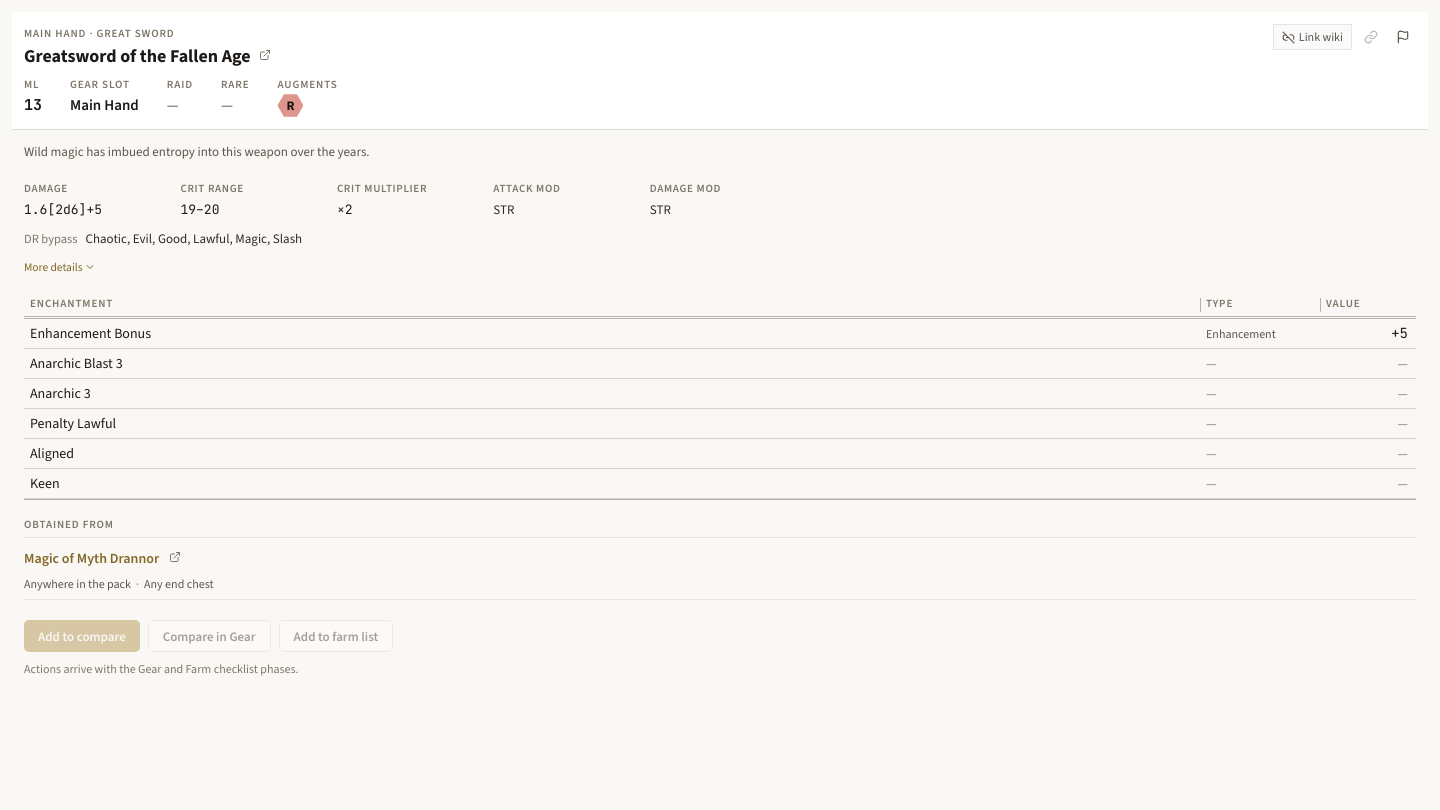
Scenario: ItemDetailCard details › keeps a weapon’s primary rows above one toggle and reveals its attributes and extras
The image size is (1440, 810).
Expected: the number of elements with class "detail-fact-grid__cell" is 5, left=24, top=181, right=102, bottom=218; left=180, top=181, right=244, bottom=218; left=337, top=181, right=427, bottom=218; left=493, top=181, right=560, bottom=218; left=650, top=181, right=721, bottom=218
Expected: the text "Material" is not shown
Click the button "More details" at (60, 267), box left=22, top=257, right=98, bottom=277
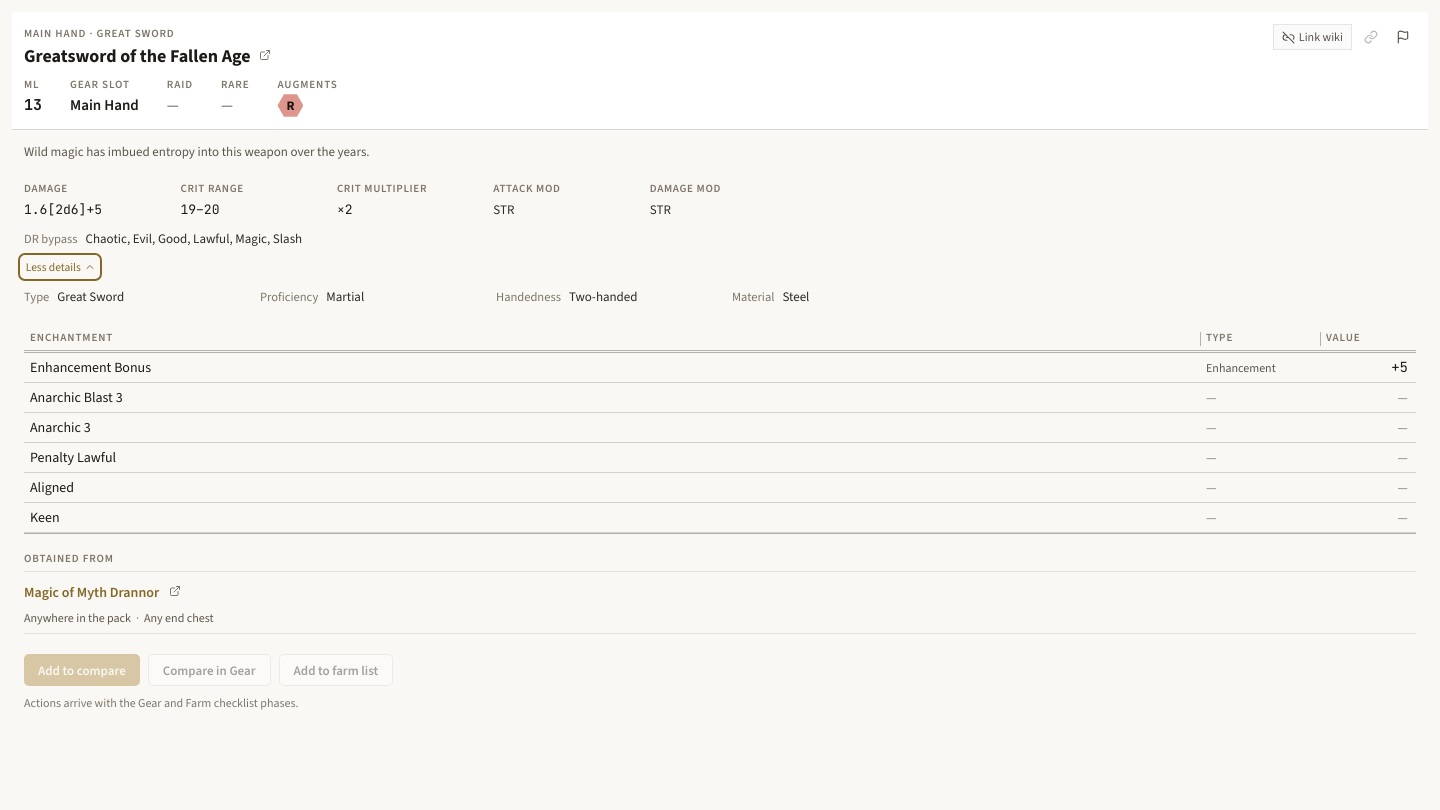
Result: the button "Less details" is expanded
Result: the element with class "detail-extras" is shown at left=24, top=288, right=809, bottom=305
Result: the number of elements with class "detail-extras__entry" is 4 at left=24, top=288, right=124, bottom=305; left=260, top=288, right=364, bottom=305; left=496, top=288, right=638, bottom=305; left=732, top=288, right=809, bottom=305
Click the button "Less details" at (60, 267), box left=22, top=257, right=98, bottom=277
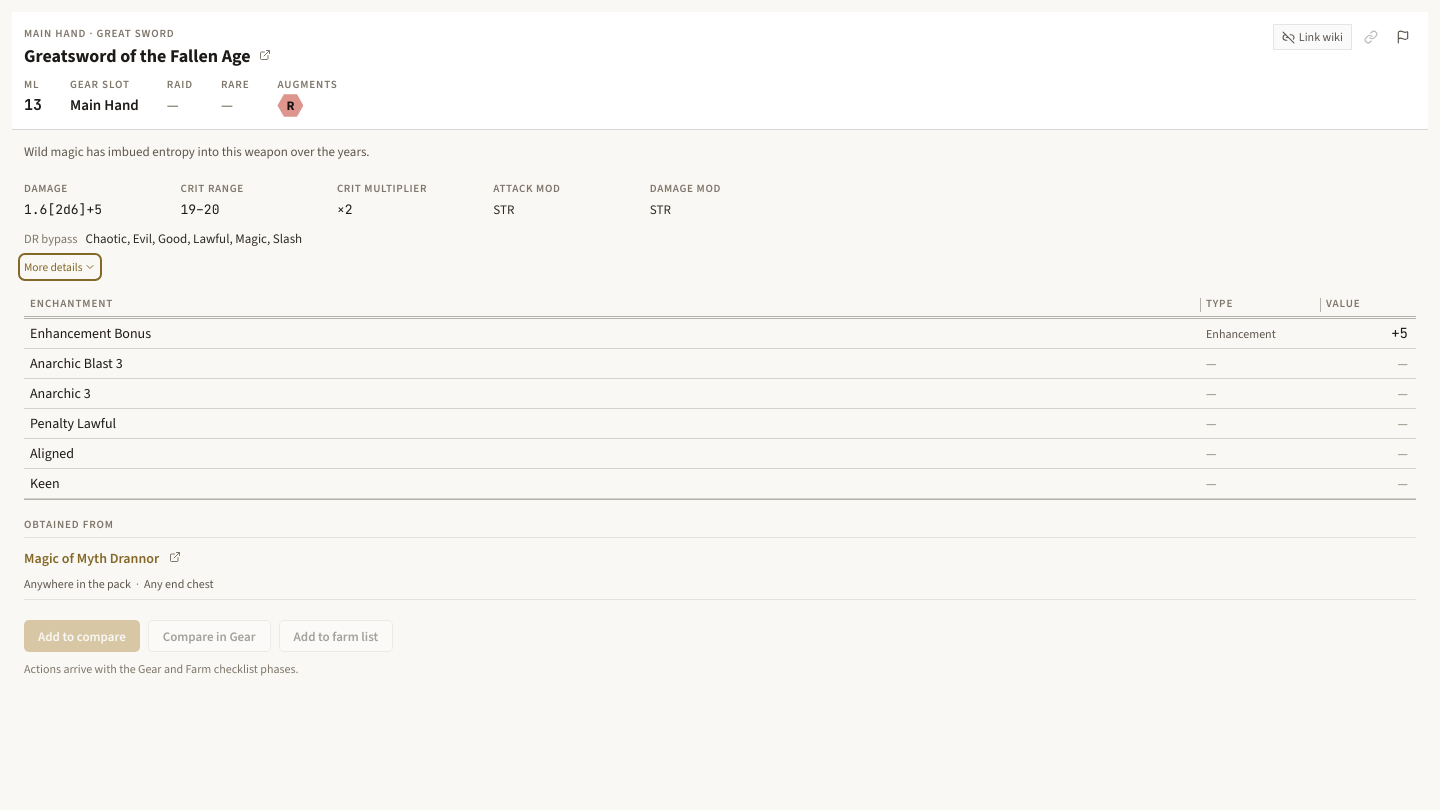
Result: the text "Proficiency" is gone
Result: the button named "Less details" is collapsed at left=22, top=257, right=98, bottom=277
